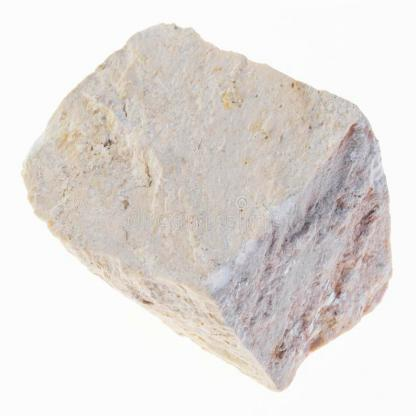Sedimentary_Limestone: (15, 20, 396, 388)
